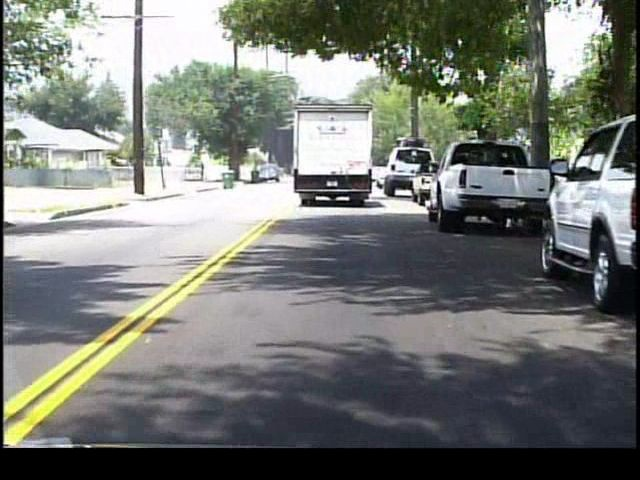person: (199, 162, 208, 185)
